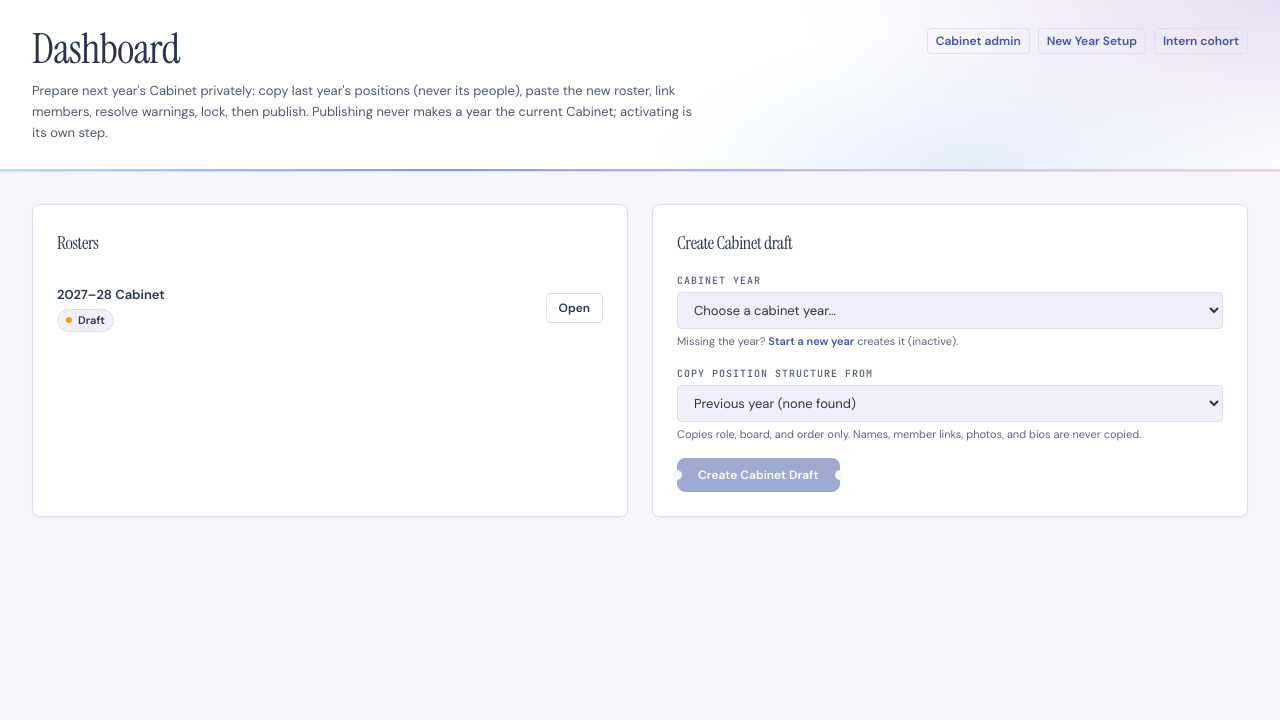
Scenario: summarizes positions, member links, review count, and available photos
This screenshot has width=1280, height=720.
What coordinates should you click on to do the following:
click the button "Open"
I would click on:
 (574, 308)
Its box is [546,293,603,323].
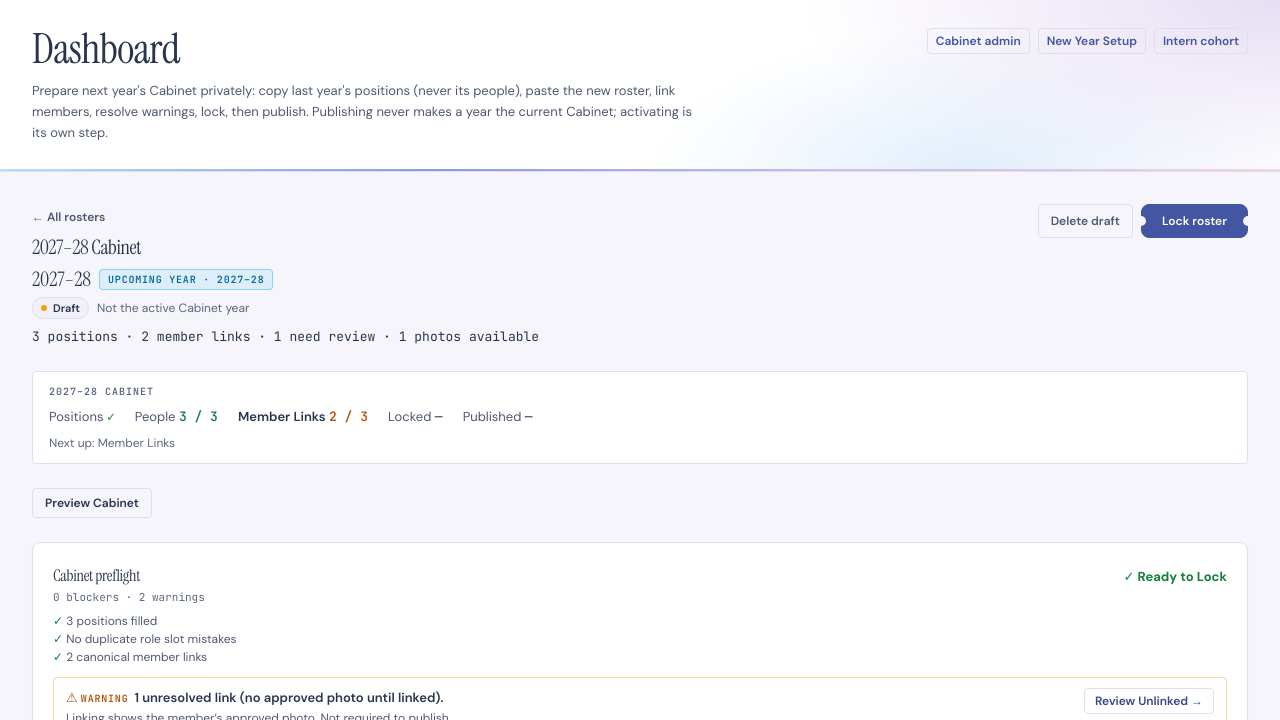
Check: the heading "2027–28 Cabinet" is shown, box [32,234,141,260]
Check: the text with test id "roster-counts" reads "3 positions · 2 member links · 1 need review · 1 photos available", box [32,327,539,347]
Check: the text "1 unresolved link (no approved photo until linked)." is shown, box [134,689,444,706]
